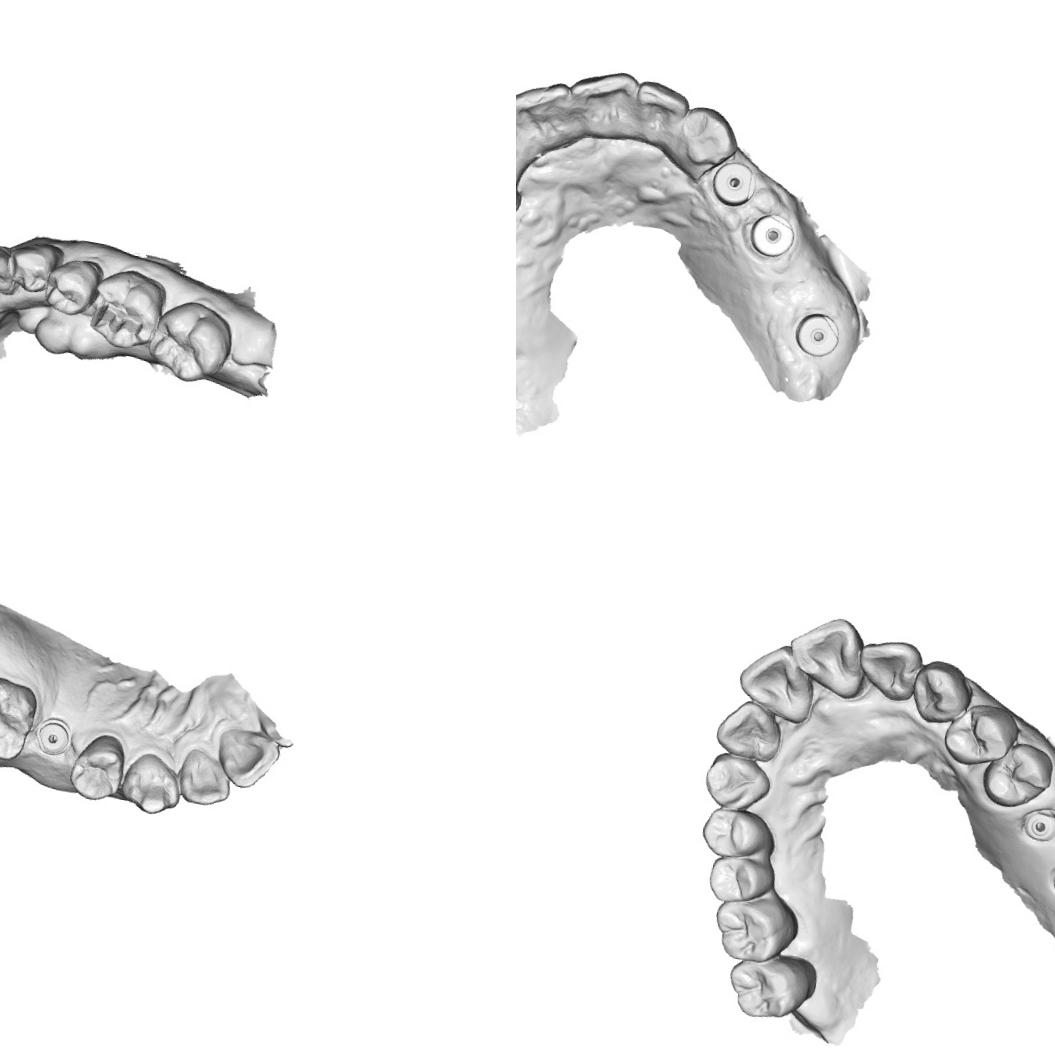canine: (699, 749, 775, 814), (672, 98, 742, 168), (116, 748, 186, 818), (910, 656, 972, 728), (0, 237, 23, 296)
implant: (791, 302, 844, 361), (750, 209, 806, 264), (710, 156, 758, 209), (31, 712, 75, 758), (1019, 801, 1055, 842), (1042, 854, 1055, 910)
incisor: (781, 608, 870, 698), (732, 636, 818, 726), (566, 65, 644, 136), (710, 694, 787, 762), (211, 726, 283, 794), (855, 638, 922, 698), (174, 745, 236, 809), (516, 77, 573, 137), (626, 80, 686, 137)
molar: (142, 294, 238, 390), (84, 262, 172, 356), (722, 945, 816, 1027), (706, 890, 790, 969), (0, 671, 40, 764)
premolar: (938, 695, 1022, 773), (979, 737, 1055, 814), (65, 728, 128, 806), (39, 252, 104, 321), (703, 852, 778, 910), (1, 235, 64, 297), (702, 807, 764, 858)
